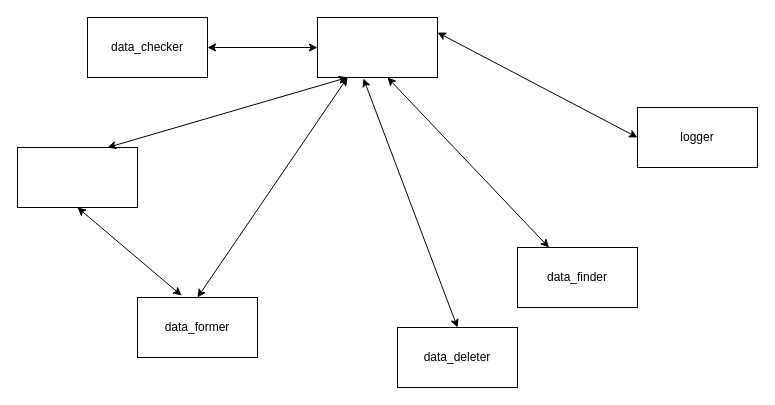
The diagram is 775 pixels wide and 405 high, and some of its shapes have lost their labels. The shapes that lost their labels are listed below. From the top down, each one's centre as x and y in pixels, then its label:
At point (377, 47): "data_provider main_menu()".
At point (77, 177): "file_worker".
